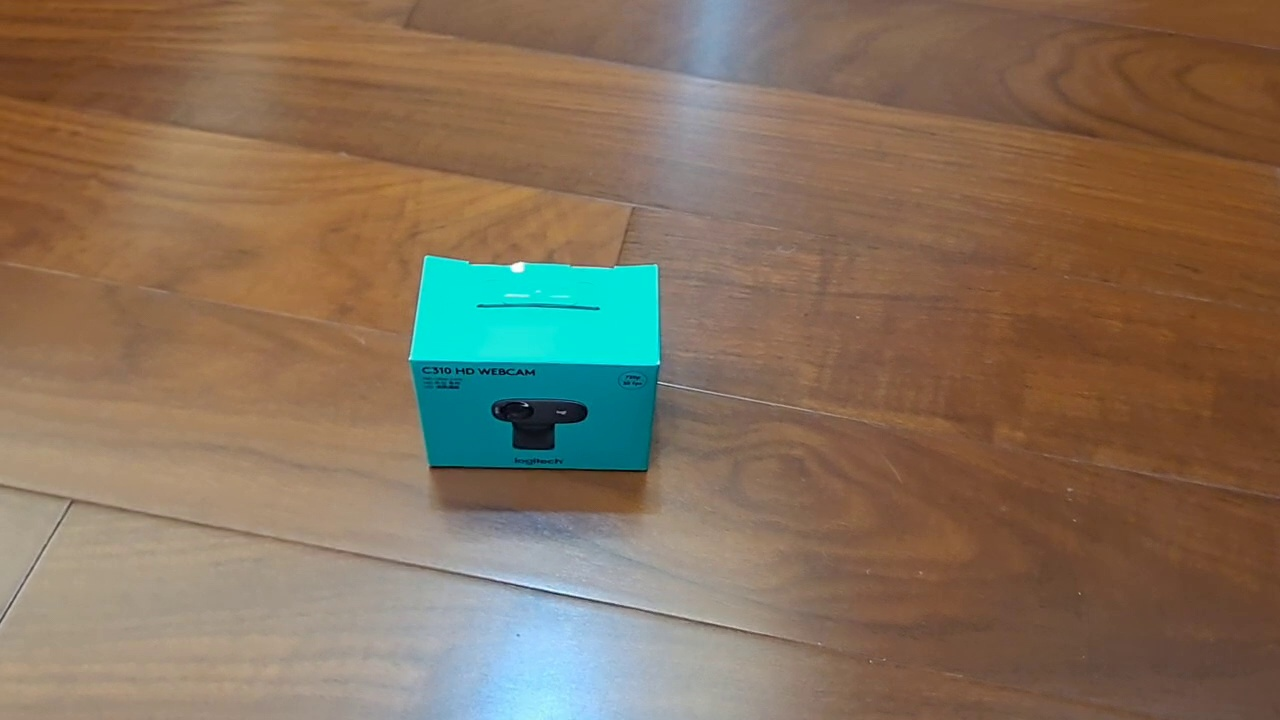webcam: (407, 254, 661, 472)
